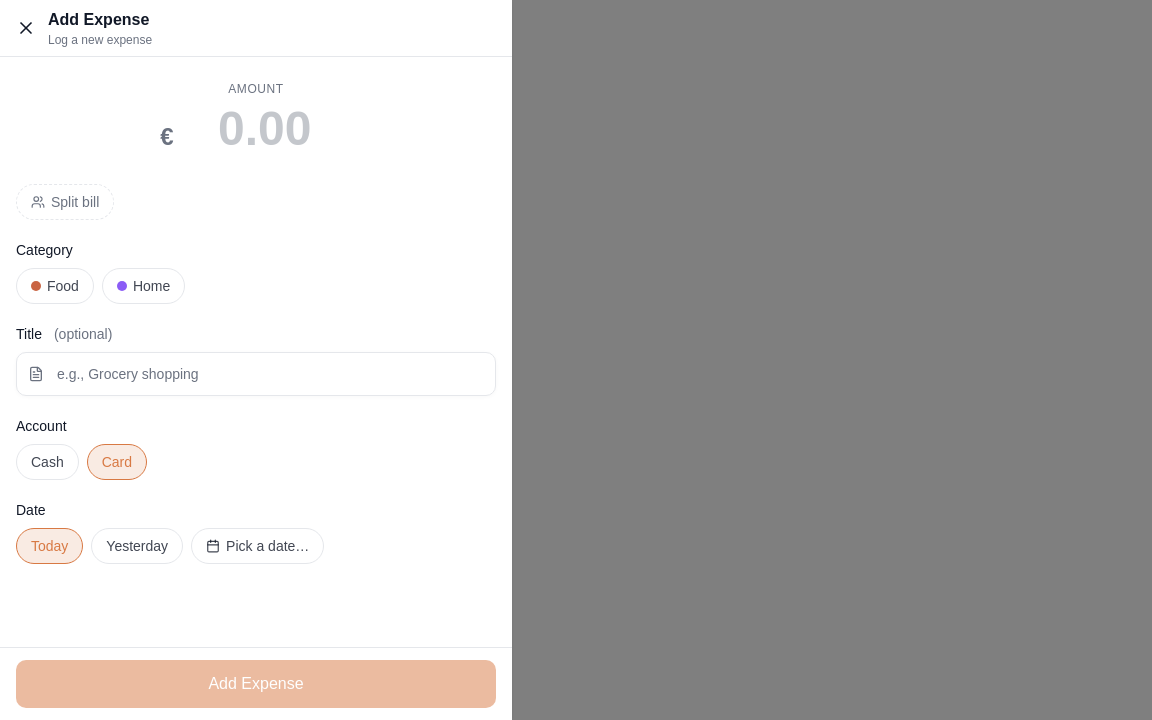
Test: AddExpensePage › suggests previous titles while typing and prefills category and amount on pick
The width and height of the screenshot is (1152, 720).
Type "Tak" into the dropdown labelled "Title (optional)" at (256, 374), box [16,352,496,396]
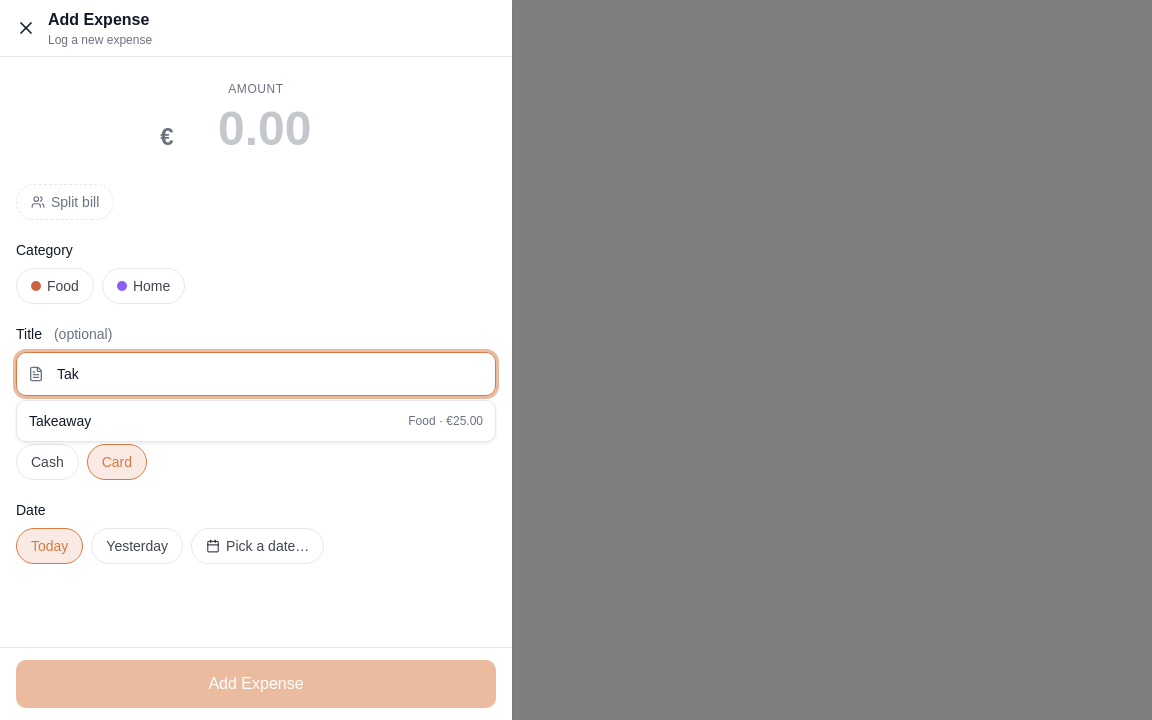
Expected: the option "Takeaway Food · €25.00" is shown
Click the option "Takeaway Food · €25.00" at (60, 421), box [17,401,495,441]
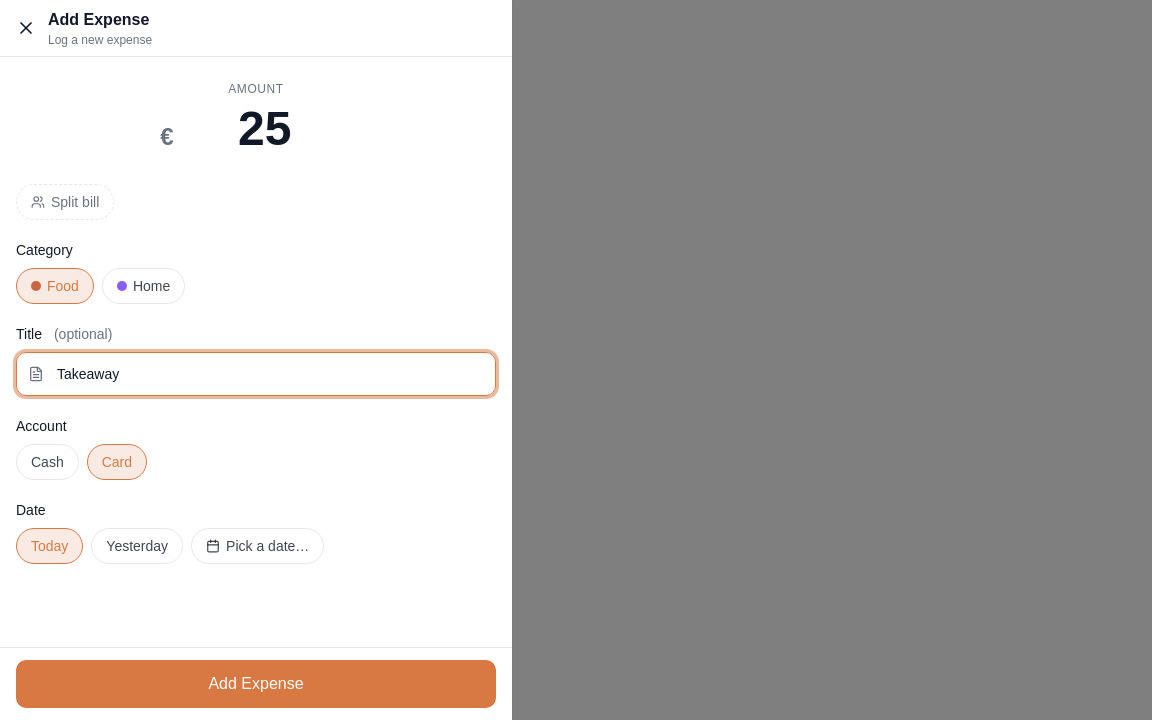
Expected: the dropdown labelled "Title (optional)" holds "Takeaway", [16,352,496,396]
Expected: the field labelled "Amount" holds "25", [178,101,352,156]
